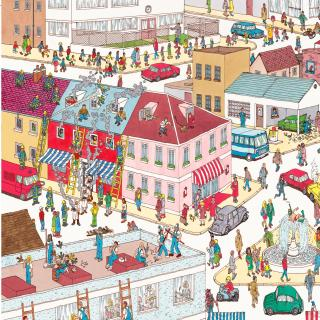Waldo: (206, 288, 212, 296)
